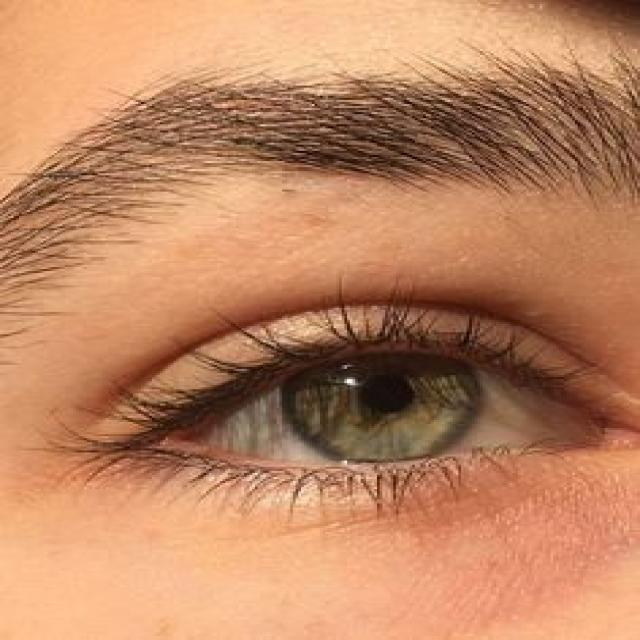Normal: (0, 188, 637, 638)
